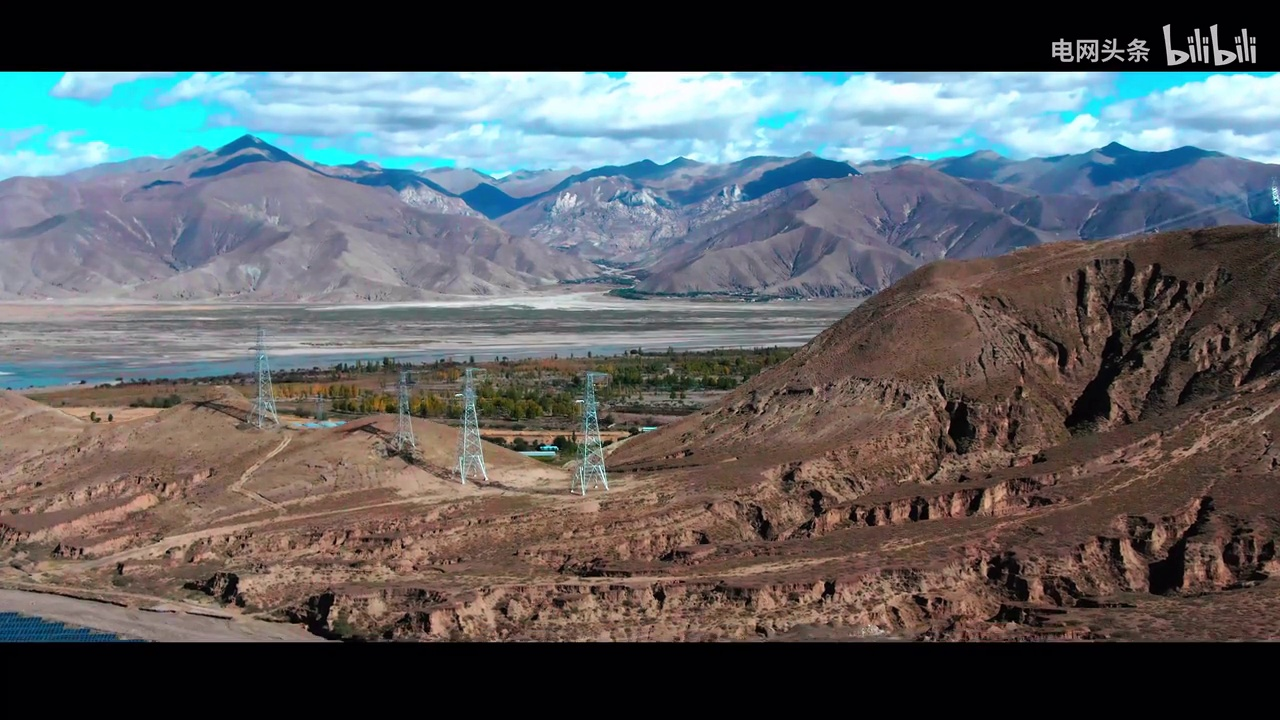tower_body: (447, 360, 505, 485), (571, 360, 619, 498), (241, 325, 287, 431), (388, 366, 420, 464)
